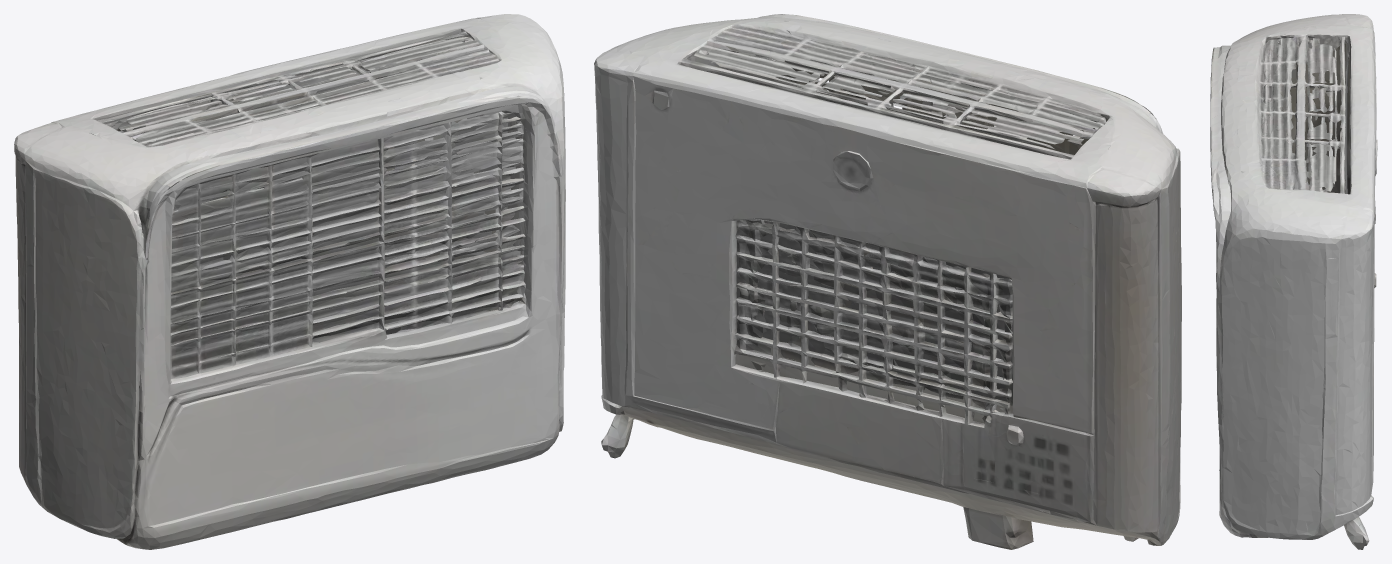
3 renders of one model, left to right at view 1: azimuth 30°, elevation 25°; view 2: azimuth 150°, elevation 25°; view 3: azimuth 270°, elevation 25°, orthographic. The views are drawn at different scales.
Parts seen in each view (by area): view 1: geometry_0; view 2: geometry_0; view 3: geometry_0.
Part boxes in pixels (x1,y1,x2,y2): geometry_0: (14, 14, 565, 549); geometry_0: (594, 14, 1181, 549); geometry_0: (1210, 14, 1377, 549).
Size of the model in its own units: 1 by 0.7131 by 0.3171.
1 material, 1 textured.
